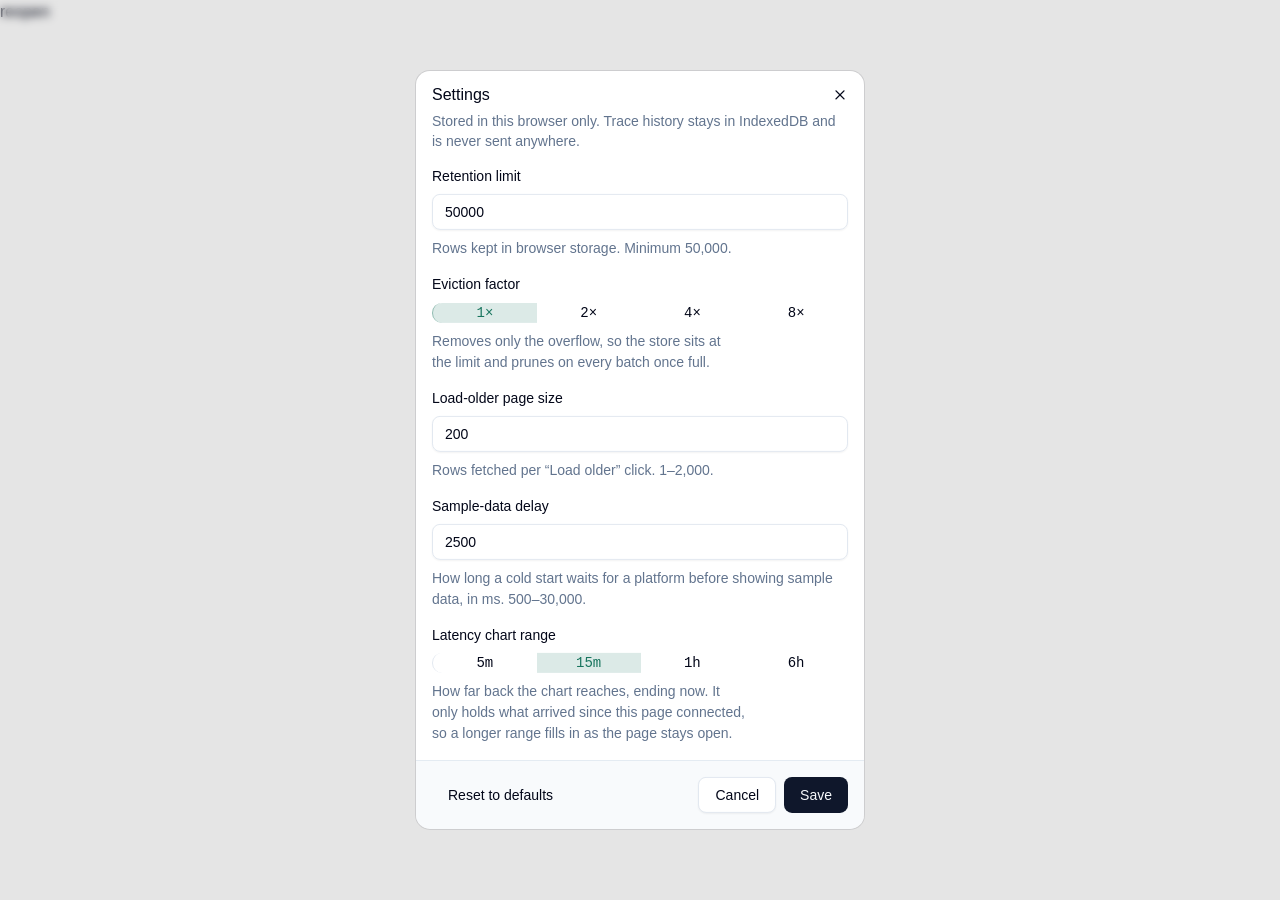
what the eviction factor says it will do › describes evicting the overflow at 1×, and a multiple above it
Expected: the text "Removes only the overflow" is shown, [432,332,721,369]
Click the button "8×" at (796, 312), box [744,302,848,322]
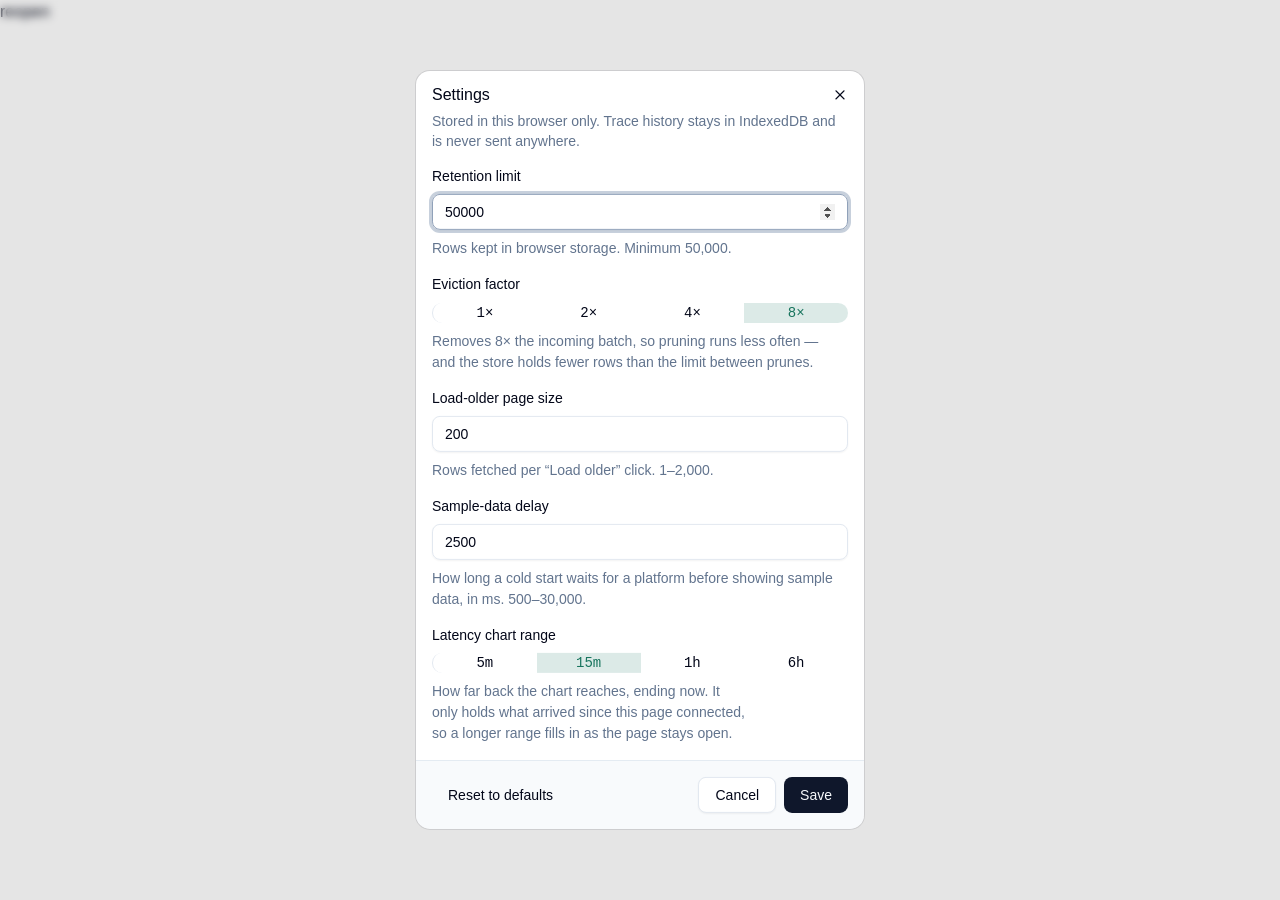
Now the text "fewer rows than the limit" is shown, box [432,332,818,369]
